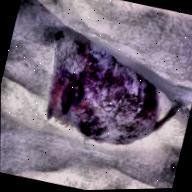boar: (16, 12, 192, 174)
